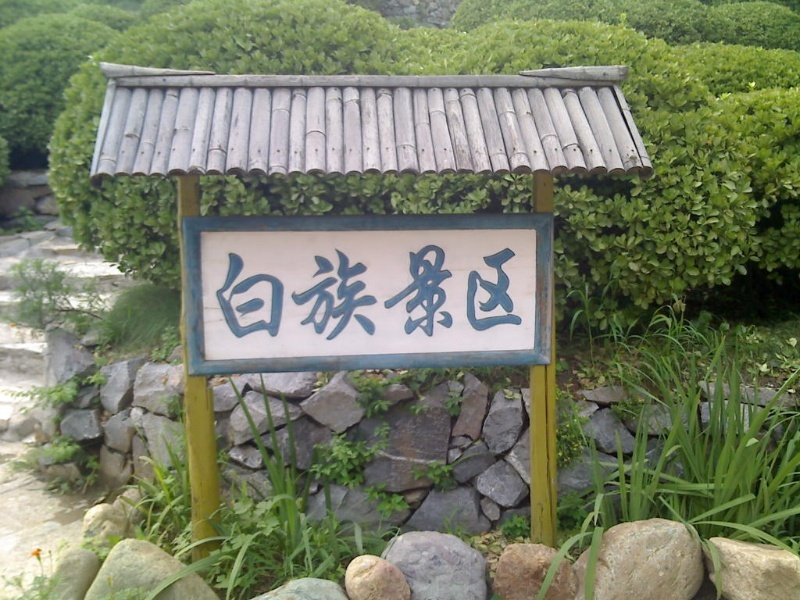text: (225, 246, 240, 340), (241, 246, 256, 340), (257, 246, 272, 340), (273, 246, 288, 340), (289, 246, 304, 340), (305, 246, 320, 340), (321, 246, 336, 340), (337, 246, 352, 340), (353, 246, 368, 340), (369, 246, 384, 340), (385, 246, 400, 340), (401, 246, 416, 340), (417, 246, 432, 340), (433, 246, 448, 340), (449, 246, 464, 340), (465, 246, 480, 340), (481, 246, 496, 340), (497, 246, 512, 340), (513, 246, 526, 340), (213, 246, 224, 340)
